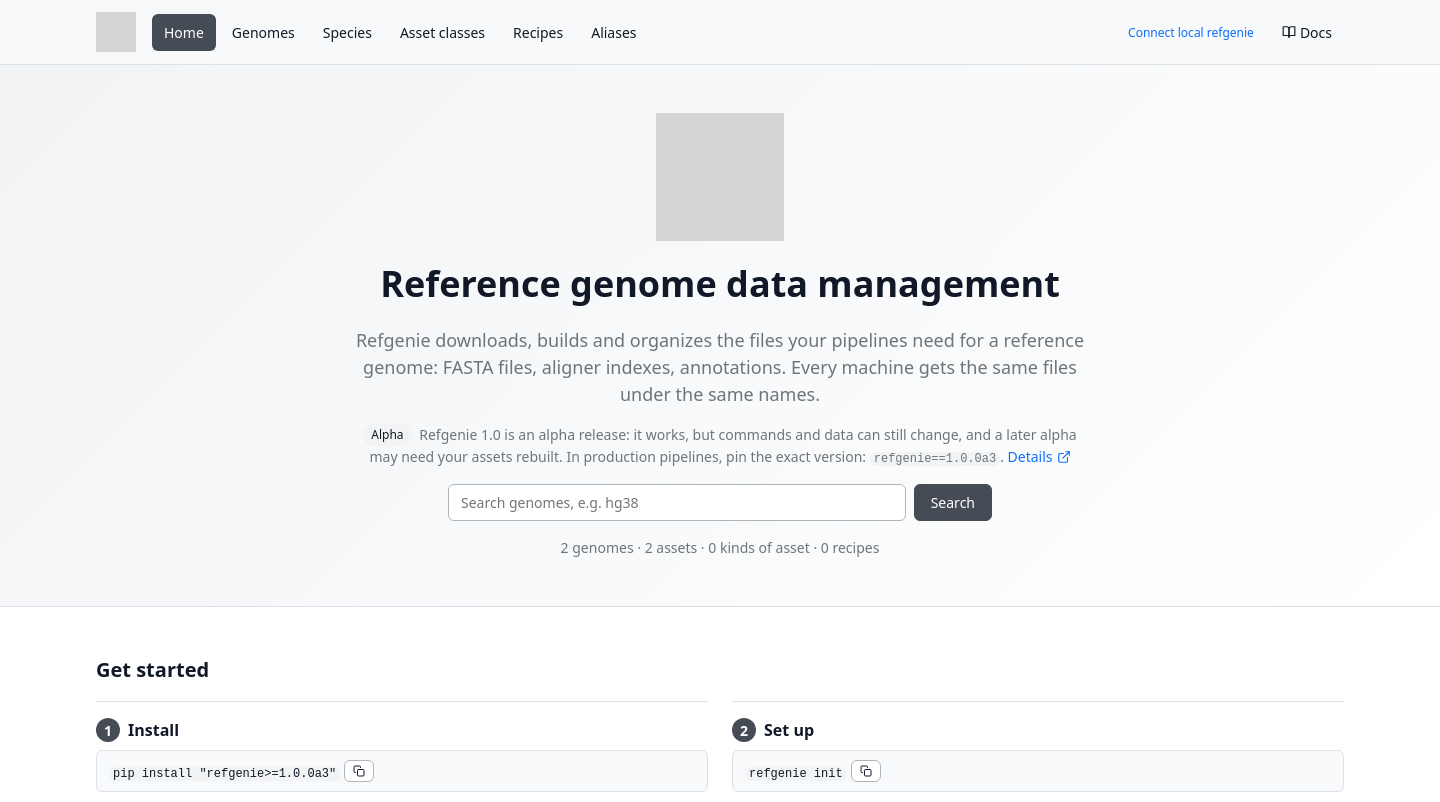
LandingPage › deep-links the hero search into the genome list
Type "hg38" into the search field labelled "Search genomes" at (677, 503), box [448, 484, 906, 521]
Then press Enter
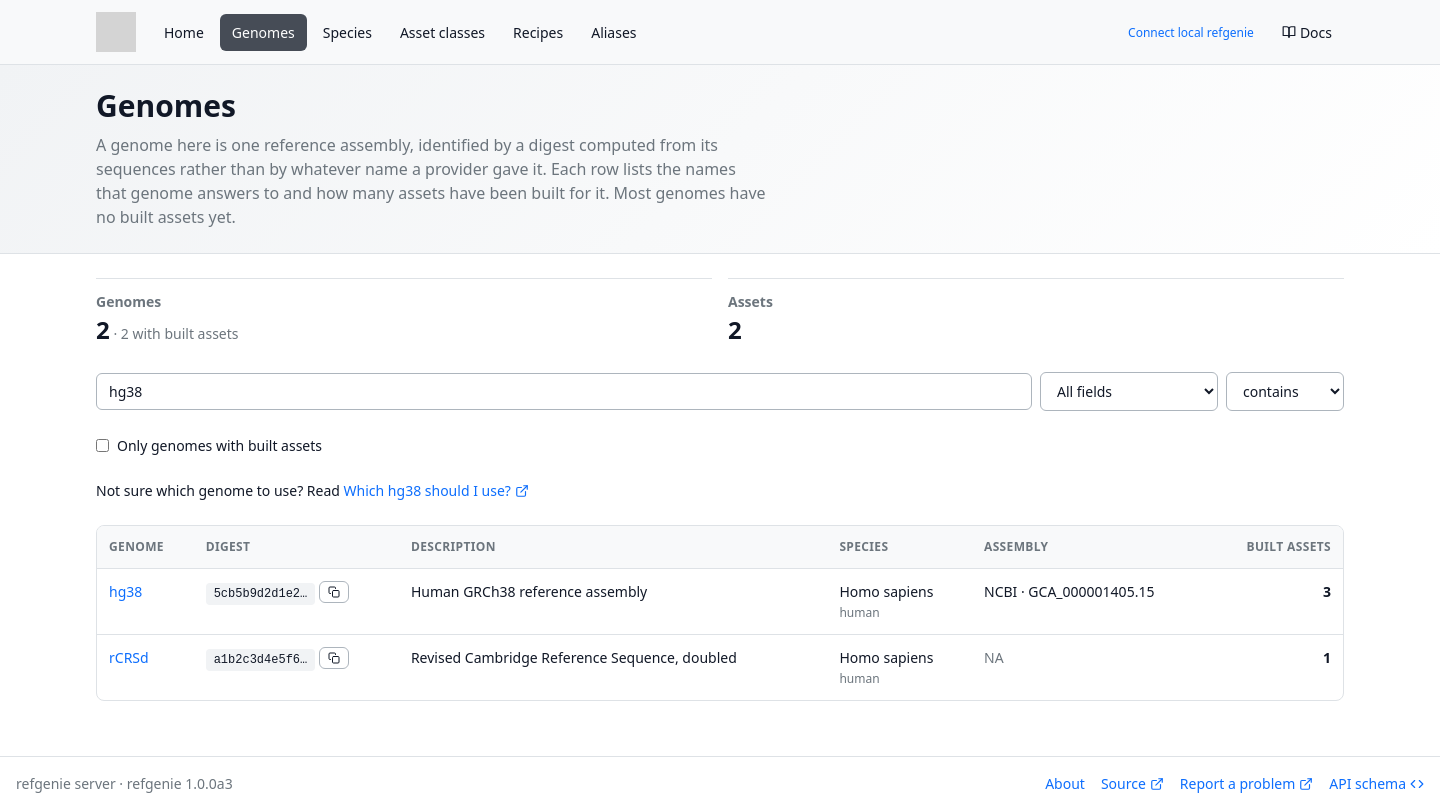
Expected: the heading "Genomes" is shown, [96, 89, 236, 124]
